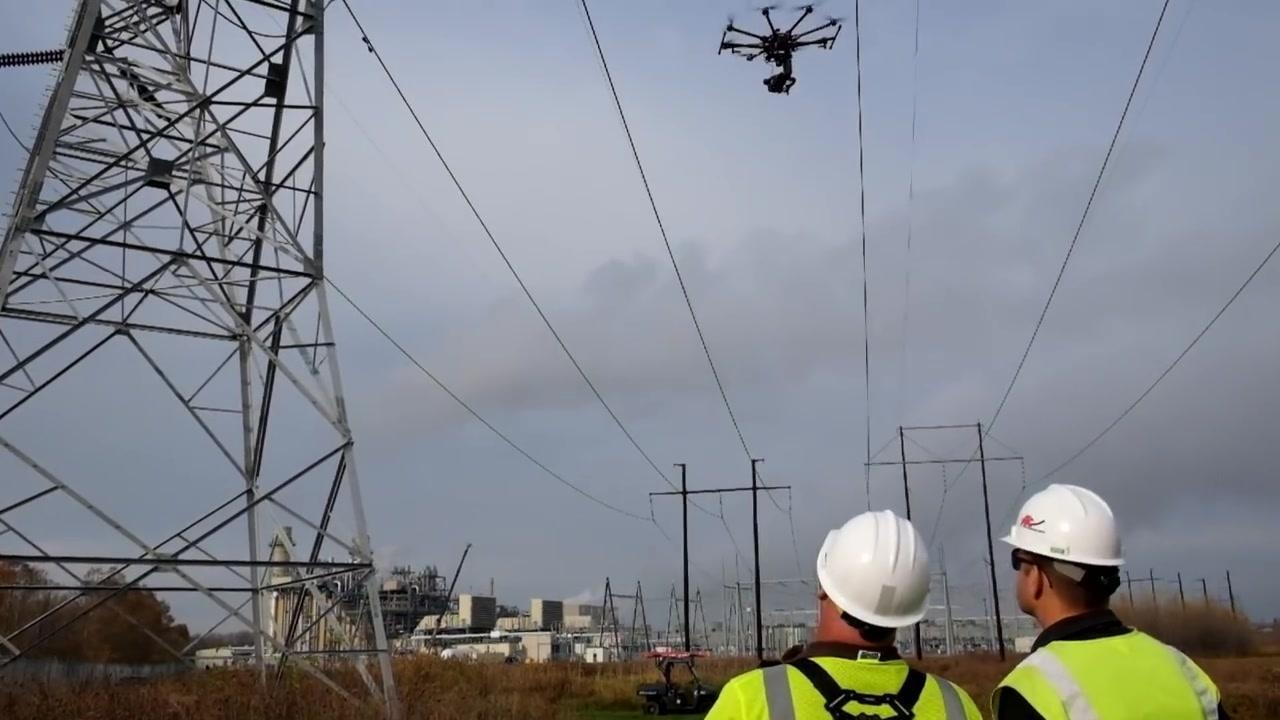UAV: (719, 4, 844, 96)
